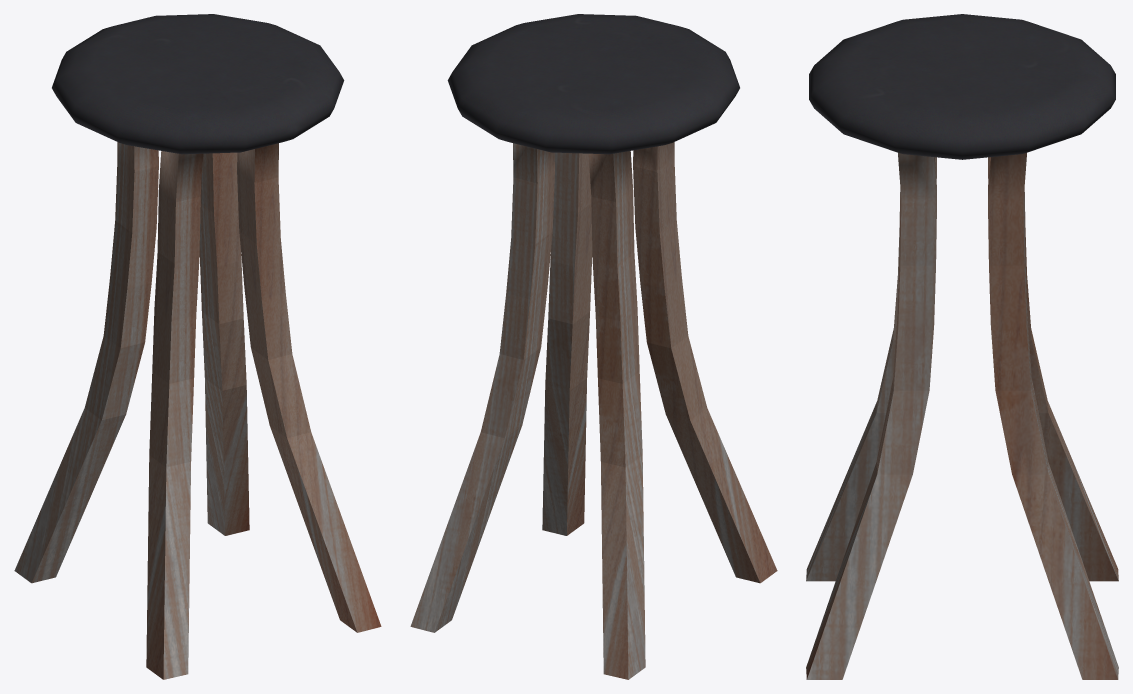
File: stool_obj.fbx
3 renders of one model, left to right at view 1: azimuth 30°, elevation 25°; view 2: azimuth 150°, elevation 25°; view 3: azimuth 270°, elevation 25°, orthographic. The views are drawn at different scales.
Parts seen in each view (by area): view 1: pTorus2; view 2: pTorus2; view 3: pTorus2.
Boxes of the visible parts, <box> form: pTorus2: <box>14,14,381,679</box>; pTorus2: <box>410,14,777,679</box>; pTorus2: <box>806,14,1118,679</box>.
Size of the model in its own units: 37.6 by 75.89 by 38.53.
